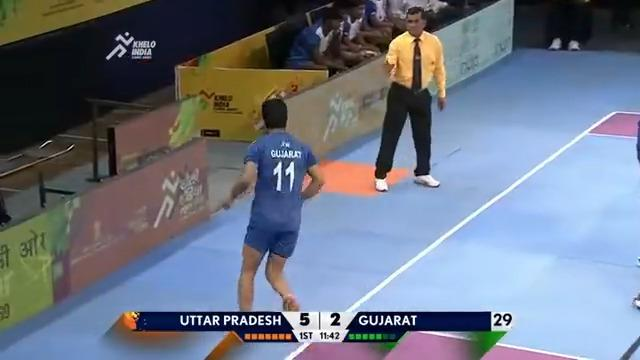Player: (220, 96, 325, 313)
referee: (373, 6, 447, 192)
